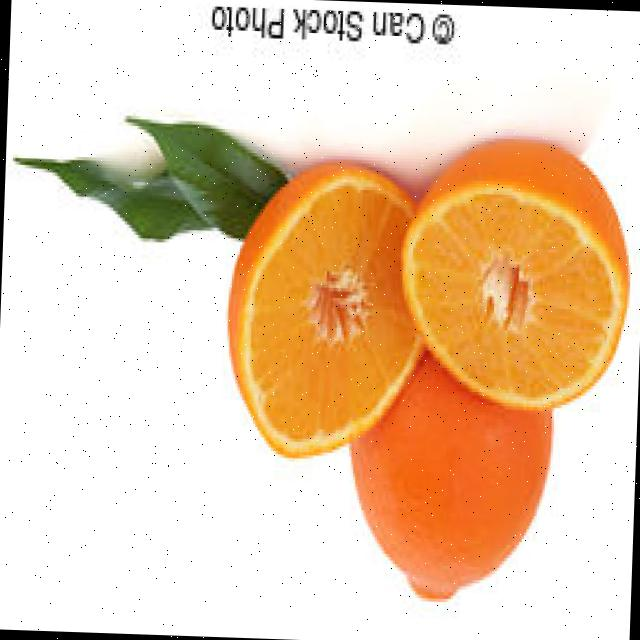Jeruk: (395, 138, 637, 416), (223, 159, 435, 466), (346, 348, 556, 608)
